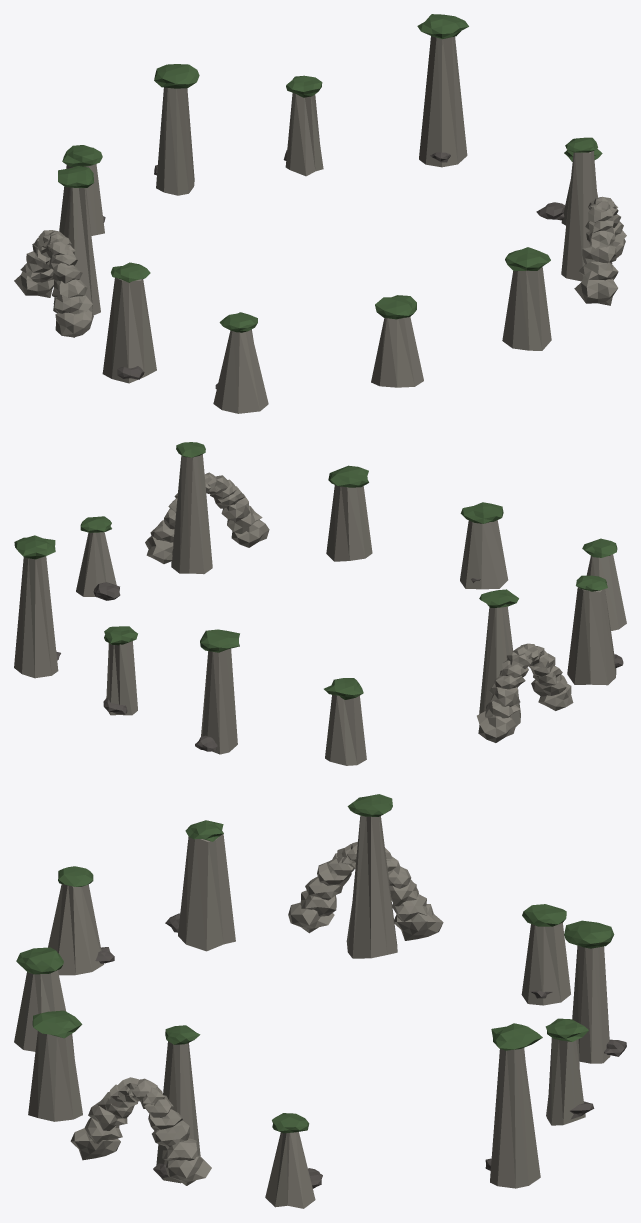
Rendered from arch_coil_arena.glb.
The picture shows the model from 3 angles, top to bottom: view 1: azimuth 30°, elevation 25°; view 2: azimuth 150°, elevation 25°; view 3: azimuth 270°, elevation 25°; orthographic projection. The views are drawn at different scales.
Parts seen in each view (by area): view 1: geometry_0; view 2: geometry_0; view 3: geometry_0.
Part boxes in pixels (x1,y1,x2,y2): geometry_0: (14, 14, 626, 413); geometry_0: (14, 442, 626, 765); geometry_0: (14, 794, 626, 1208).
Bounding box in the file's own units: 207 × 51.52 × 189.
